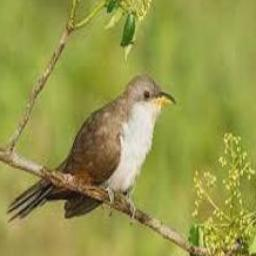Cuckoo: (6, 74, 176, 218)
